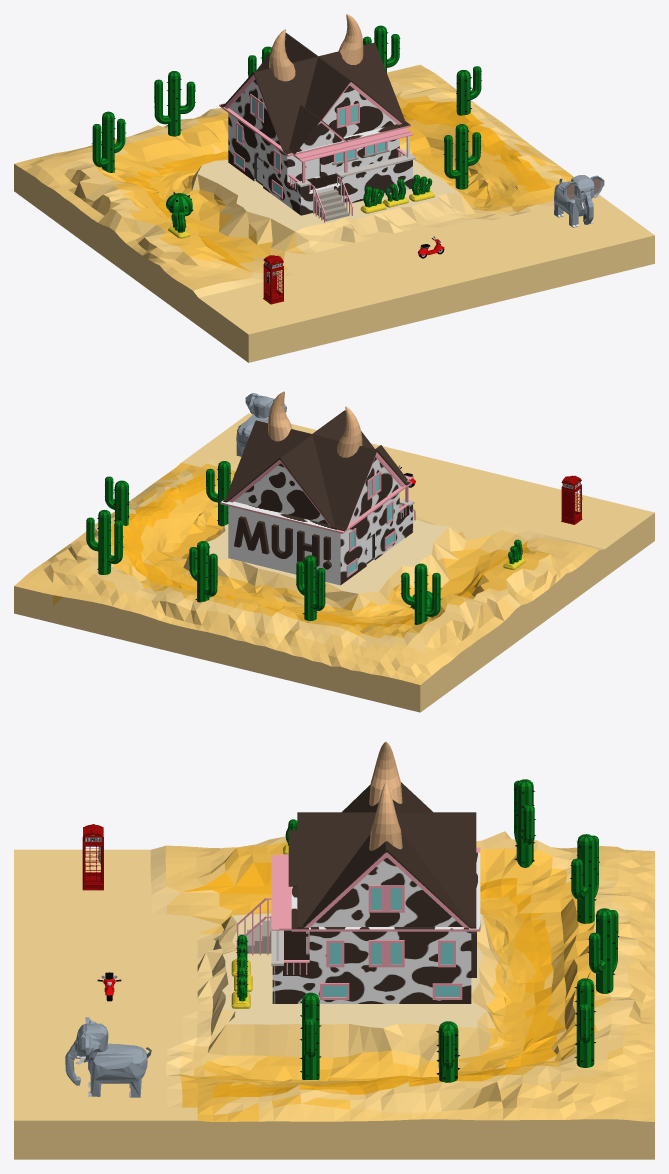
3 views of the same model, one above another, from view 1: azimuth 30°, elevation 25°; view 2: azimuth 150°, elevation 25°; view 3: azimuth 270°, elevation 25° (orthographic). The views are drawn at different scales.
Visible parts, largest first — view 1: Cube.001, Cube.1242, ANIMAL_ELEFANTE, Cylinder.037, Cylinder.044, Cylinder.045, OBJRANDOM_PHONEBOOTH, Cylinder.038, Cylinder.042, Cylinder.041, Cylinder.039; view 2: Cube.001, Cube.1242, Cylinder.045, Cylinder.042, Cylinder.044, Cylinder.043, ANIMAL_ELEFANTE, Cylinder.037, OBJRANDOM_PHONEBOOTH, Cylinder.038; view 3: Cube.001, Cube.1242, ANIMAL_ELEFANTE, Cylinder.044, Cylinder.043, Cylinder.045, Cylinder.042, Cylinder.037, OBJRANDOM_PHONEBOOTH, Cylinder.038, Cylinder.041.
Part boxes in pixels (bbox=[...]): Cube.001: bbox=[14, 64, 654, 362]; Cube.1242: bbox=[219, 14, 415, 222]; ANIMAL_ELEFANTE: bbox=[554, 175, 604, 227]; Cylinder.037: bbox=[443, 124, 481, 189]; Cylinder.044: bbox=[154, 71, 195, 136]; Cylinder.045: bbox=[92, 111, 126, 172]; OBJRANDOM_PHONEBOOTH: bbox=[263, 255, 283, 304]; Cylinder.038: bbox=[456, 66, 481, 115]; Cylinder.042: bbox=[363, 25, 400, 72]; Cylinder.041: bbox=[409, 174, 434, 201]; Cylinder.039: bbox=[360, 186, 386, 213]; Cube.001: bbox=[14, 413, 654, 712]; Cube.1242: bbox=[220, 391, 415, 585]; Cylinder.045: bbox=[400, 563, 441, 624]; Cylinder.042: bbox=[86, 510, 123, 574]; Cylinder.044: bbox=[296, 555, 325, 620]; Cylinder.043: bbox=[189, 541, 217, 602]; ANIMAL_ELEFANTE: bbox=[236, 393, 286, 456]; Cylinder.037: bbox=[206, 461, 235, 526]; OBJRANDOM_PHONEBOOTH: bbox=[561, 475, 582, 524]; Cylinder.038: bbox=[105, 476, 129, 525]; Cube.001: bbox=[14, 831, 654, 1159]; Cube.1242: bbox=[236, 741, 480, 1003]; ANIMAL_ELEFANTE: bbox=[65, 1017, 151, 1097]; Cylinder.044: bbox=[570, 834, 599, 923]; Cylinder.043: bbox=[588, 908, 618, 993]; Cylinder.045: bbox=[514, 779, 535, 867]; Cylinder.042: bbox=[574, 978, 595, 1067]; Cylinder.037: bbox=[300, 992, 321, 1079]; OBJRANDOM_PHONEBOOTH: bbox=[82, 824, 103, 890]; Cylinder.038: bbox=[436, 1021, 460, 1082]; Cylinder.041: bbox=[231, 966, 250, 1008].
Size of the model in its own units: 4002 by 1889 by 4001.
Materials: 41 (2 with a texture image).
